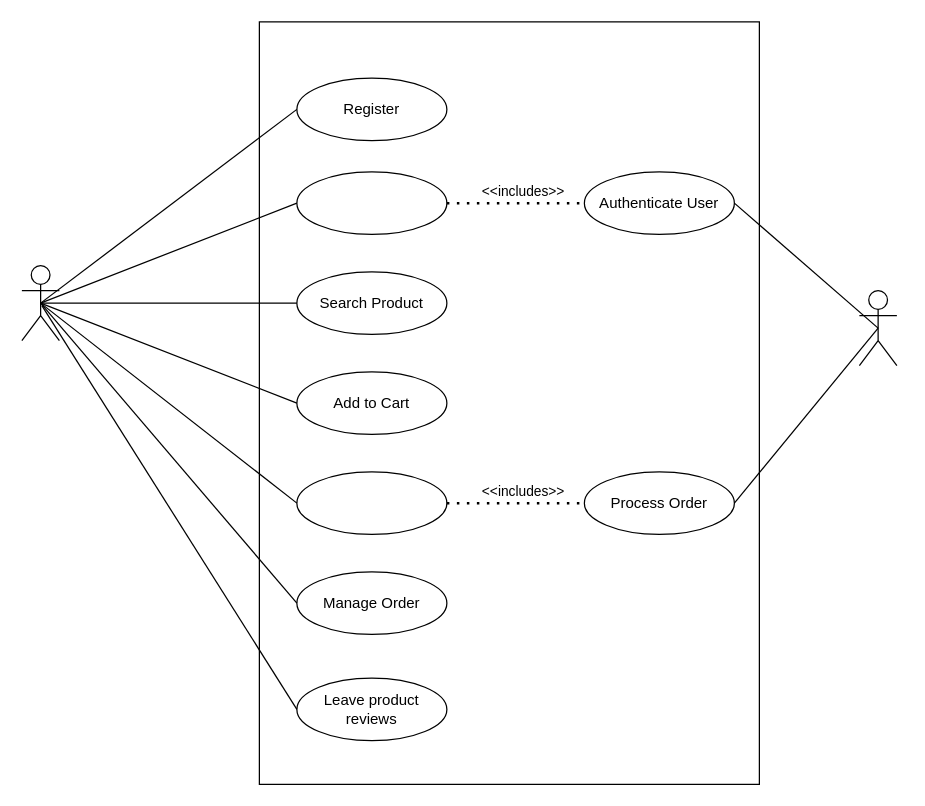
This 925x806 diagram has some shape labels left out. The shapes that lost their labels are listed below. From the top down, each one's centre as x and y in pixels, then its label:
(371,202): Login
(40,302): User
(877,327): System
(371,502): Place Order
